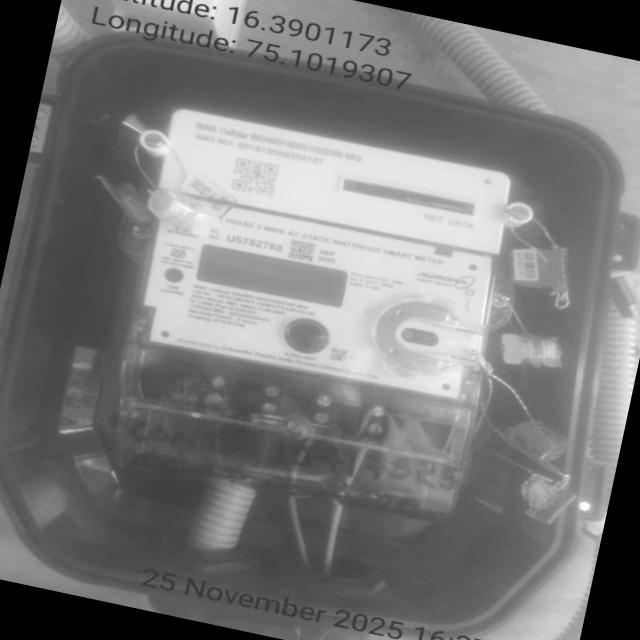meter: (128, 107, 522, 409)
